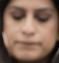without_mask: (1, 1, 59, 63)
